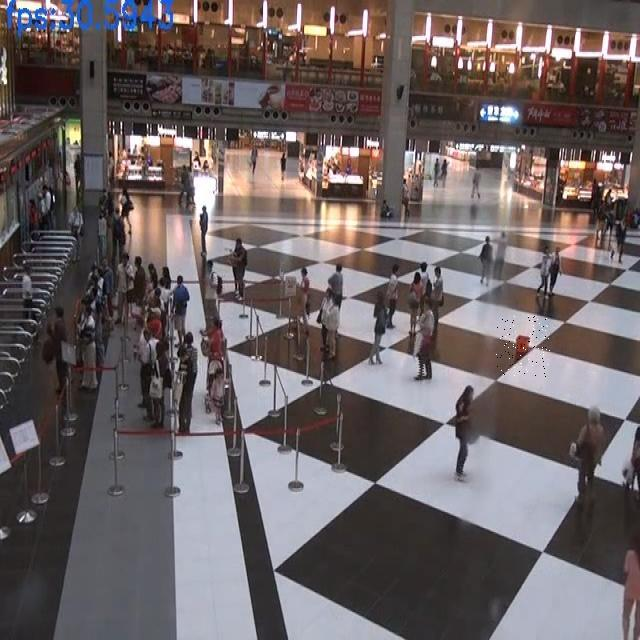abandoned-object: (496, 316, 550, 377)
